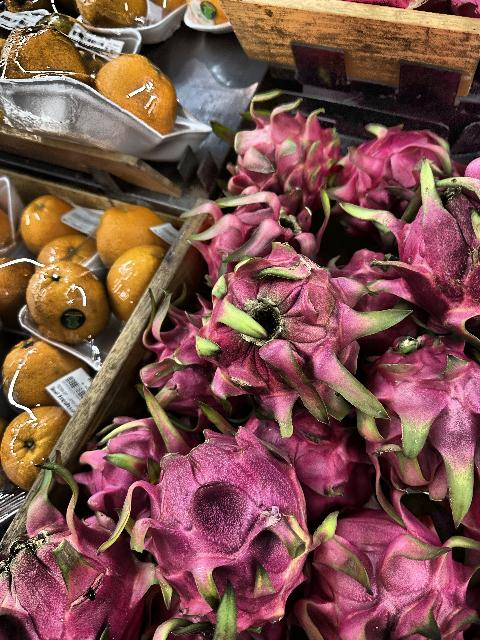buah-naga-matang: (118, 420, 316, 622), (193, 244, 388, 418), (0, 466, 146, 640), (348, 150, 480, 334), (364, 315, 480, 515), (312, 506, 480, 640), (140, 290, 236, 426), (252, 416, 382, 508), (190, 181, 334, 263), (227, 94, 343, 194), (83, 417, 187, 507)
